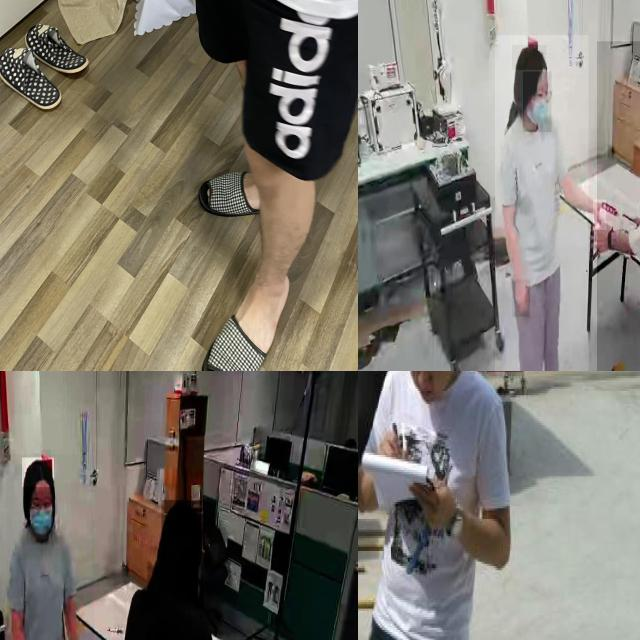Sandals: (191, 269, 305, 371), (193, 166, 283, 222)
face_mask: (23, 489, 55, 544), (523, 72, 551, 132)
hand_noglove: (591, 221, 613, 256), (512, 280, 530, 318), (593, 200, 607, 230)
head_nohelmet: (162, 500, 202, 538), (22, 458, 54, 488), (512, 45, 547, 71)
person: (495, 35, 589, 371), (113, 498, 236, 640), (6, 454, 94, 640), (597, 41, 640, 371)
